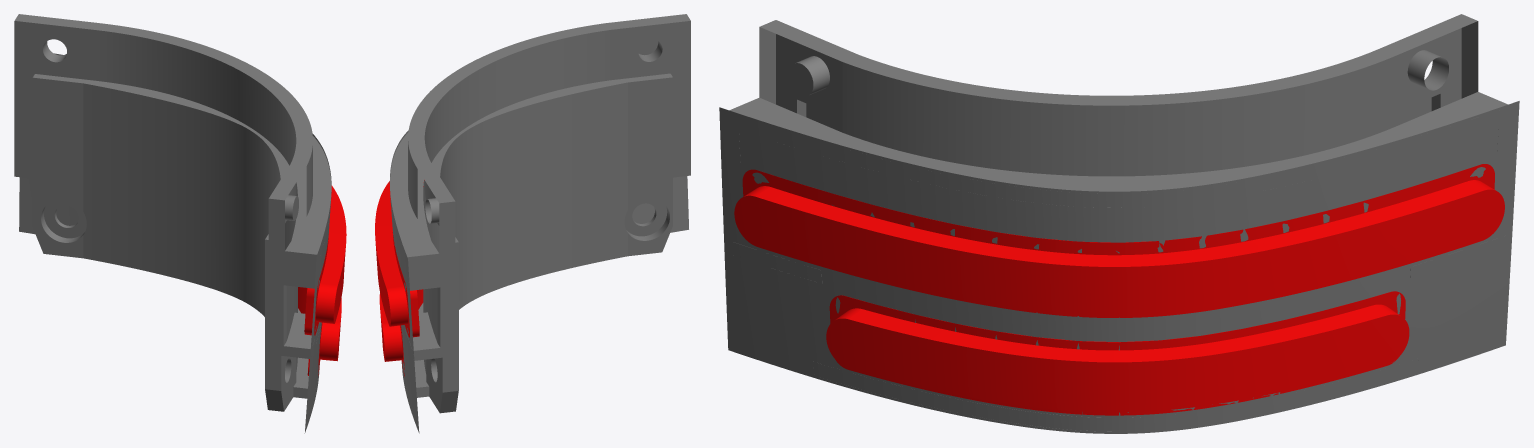
The model's file is lamp_assy.dae.
The picture shows the model from 3 angles, left to right: view 1: azimuth 30°, elevation 25°; view 2: azimuth 150°, elevation 25°; view 3: azimuth 270°, elevation 25°; orthographic projection. The views are drawn at different scales.
Visible parts, largest first — view 1: HRO1001-P-009_Â±Ã¢ÂºÂ»_Â±Ã¢ÂºÂ» (×2), HRO1001-P-002C_±âº»_±âº», HRO1001-P-002B_±âº»_±âº»; view 2: HRO1001-P-009_Â±Ã¢ÂºÂ»_Â±Ã¢ÂºÂ» (×2), HRO1001-P-002C_±âº»_±âº», HRO1001-P-002B_±âº»_±âº»; view 3: HRO1001-P-009_Â±Ã¢ÂºÂ»_Â±Ã¢ÂºÂ» (×2), HRO1001-P-002C_±âº»_±âº», HRO1001-P-002B_±âº»_±âº».
Part boxes in pixels (x1,y1,x2,y2): HRO1001-P-009_Â±Ã¢ÂºÂ»_Â±Ã¢ÂºÂ» (×2): (14,14,331,433); HRO1001-P-002C_±âº»_±âº»: (304,185,346,335); HRO1001-P-002B_±âº»_±âº»: (298,287,341,375); HRO1001-P-009_Â±Ã¢ÂºÂ»_Â±Ã¢ÂºÂ» (×2): (389,14,690,433); HRO1001-P-002C_±âº»_±âº»: (375,180,424,337); HRO1001-P-002B_±âº»_±âº»: (379,289,423,376); HRO1001-P-009_Â±Ã¢ÂºÂ»_Â±Ã¢ÂºÂ» (×2): (719,14,1519,433); HRO1001-P-002C_±âº»_±âº»: (734,164,1504,317); HRO1001-P-002B_±âº»_±âº»: (826,291,1409,415).
Size of the model in its own units: 0.0358 by 0.1025 by 0.0449.
